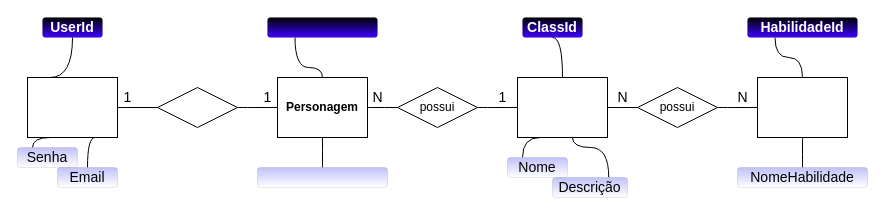
This 884x214 diagram has some shape labels left out. Each missing label, with the box of its shape:
Classe: (516, 76, 608, 138)
Habilidade: (756, 76, 848, 138)
NomePersonagem: (257, 167, 387, 187)
PersonagemId: (267, 17, 377, 37)
tem: (156, 86, 238, 128)
Usuário: (26, 76, 118, 138)
